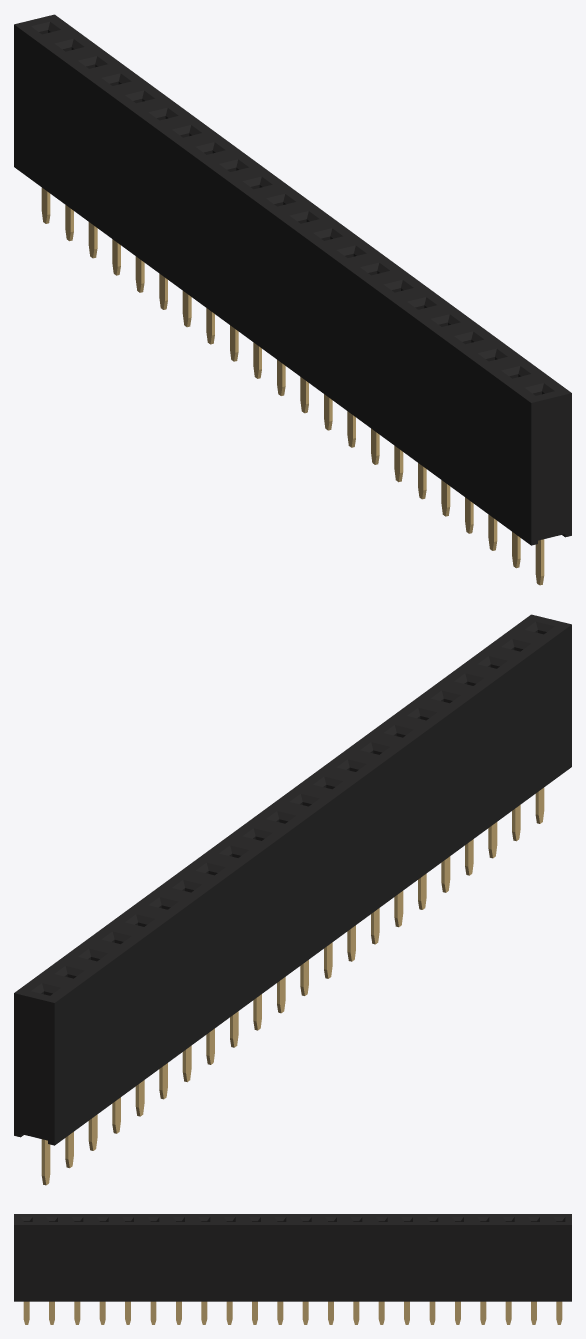
The model's file is pinsocket_1x22_p2_54mm_vertical.glb.
3 views of the same model, one above another, from view 1: azimuth 30°, elevation 25°; view 2: azimuth 150°, elevation 25°; view 3: azimuth 270°, elevation 25° (orthographic). The views are drawn at different scales.
Visible parts, largest first — view 1: socket_1x22; view 2: socket_1x22; view 3: socket_1x22.
Boxes of the visible parts, x1=… form: socket_1x22: x1=14, y1=14, x2=571, y2=545; socket_1x22: x1=14, y1=614, x2=571, y2=1145; socket_1x22: x1=14, y1=1214, x2=571, y2=1301.
Size of the model in its own units: 0.00254 by 0.0116 by 0.0559.
